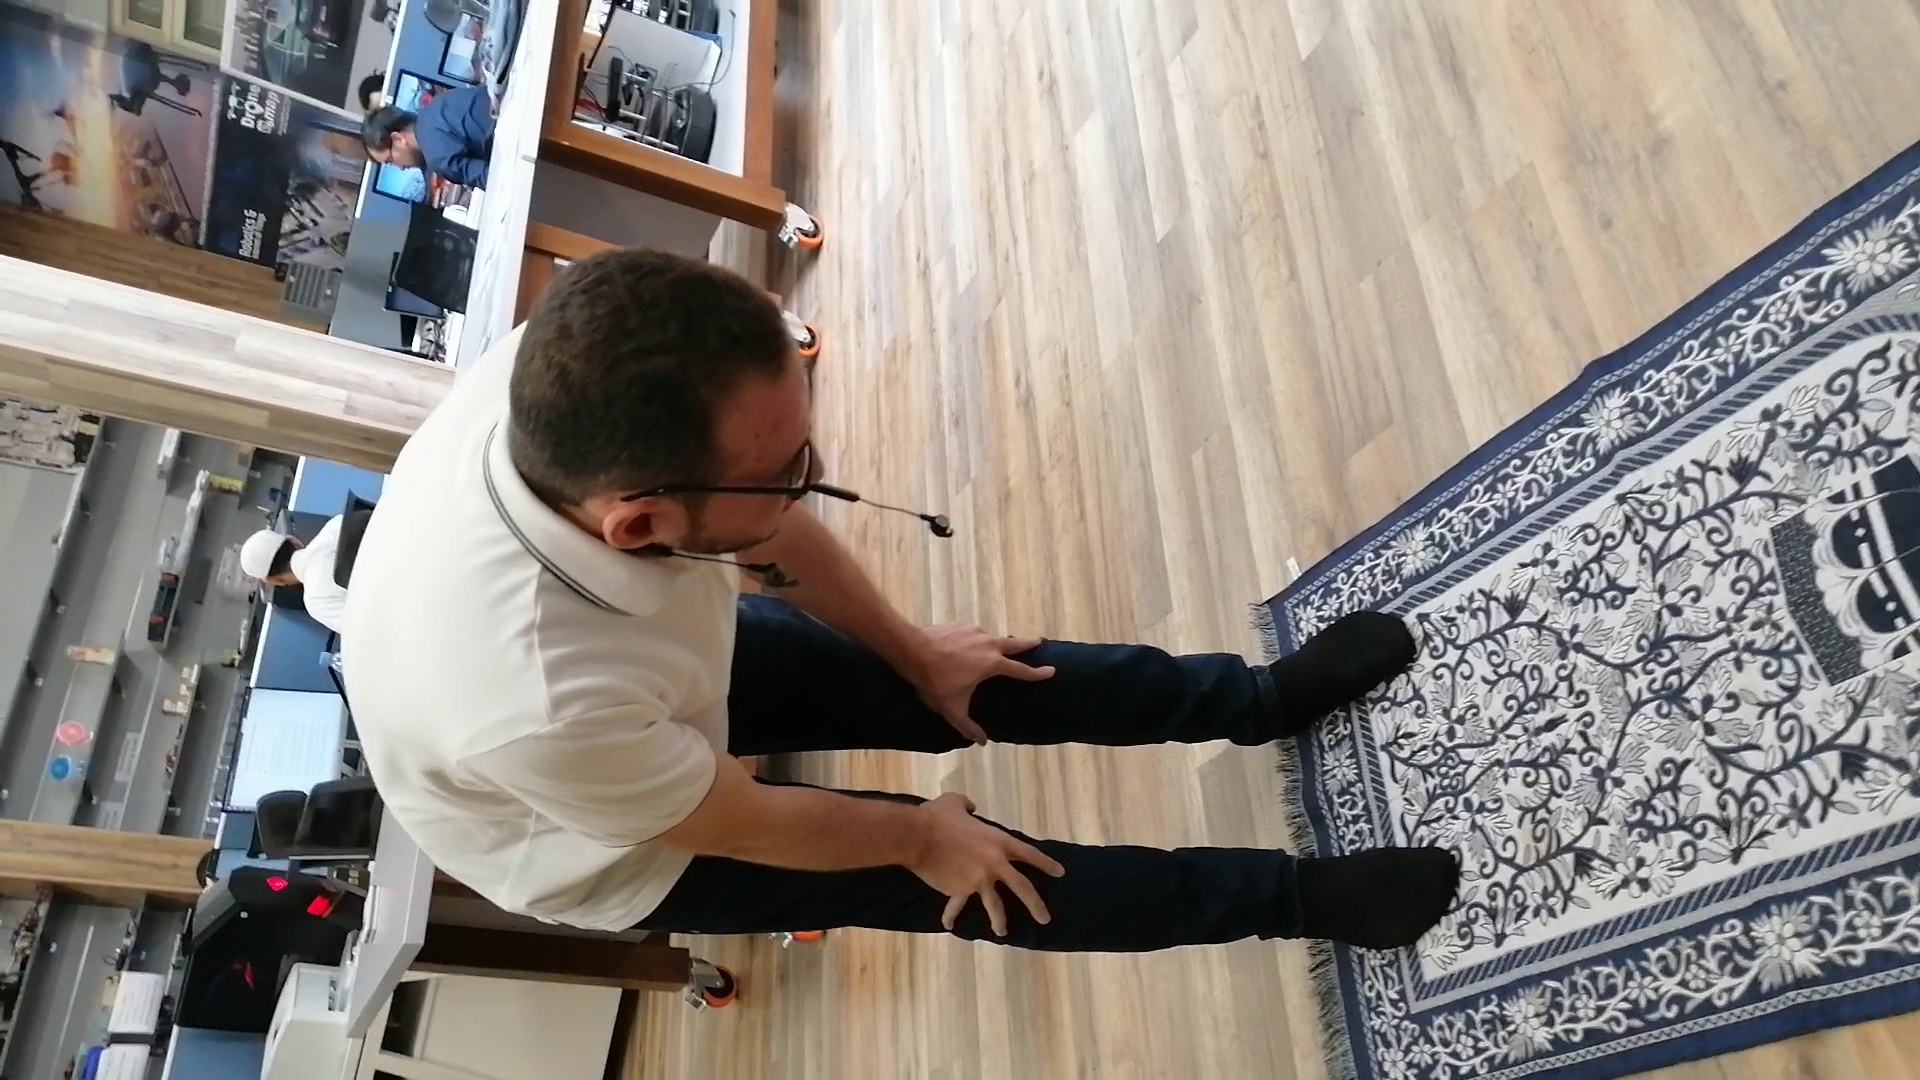ruku: (115, 222, 1692, 1039)
